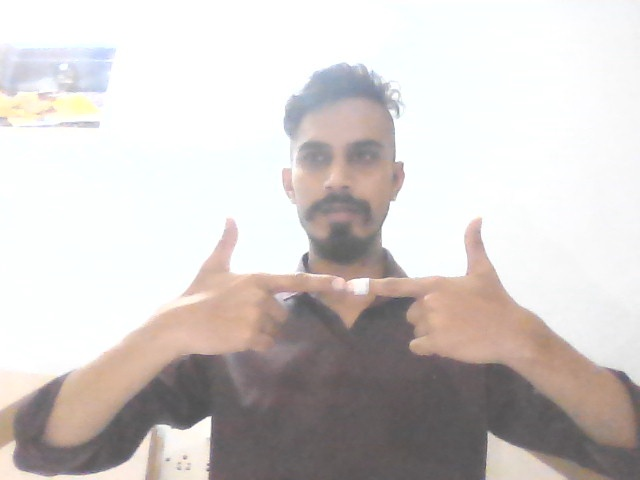Hurt: (177, 214, 528, 365), (177, 213, 530, 363), (376, 213, 529, 366)
